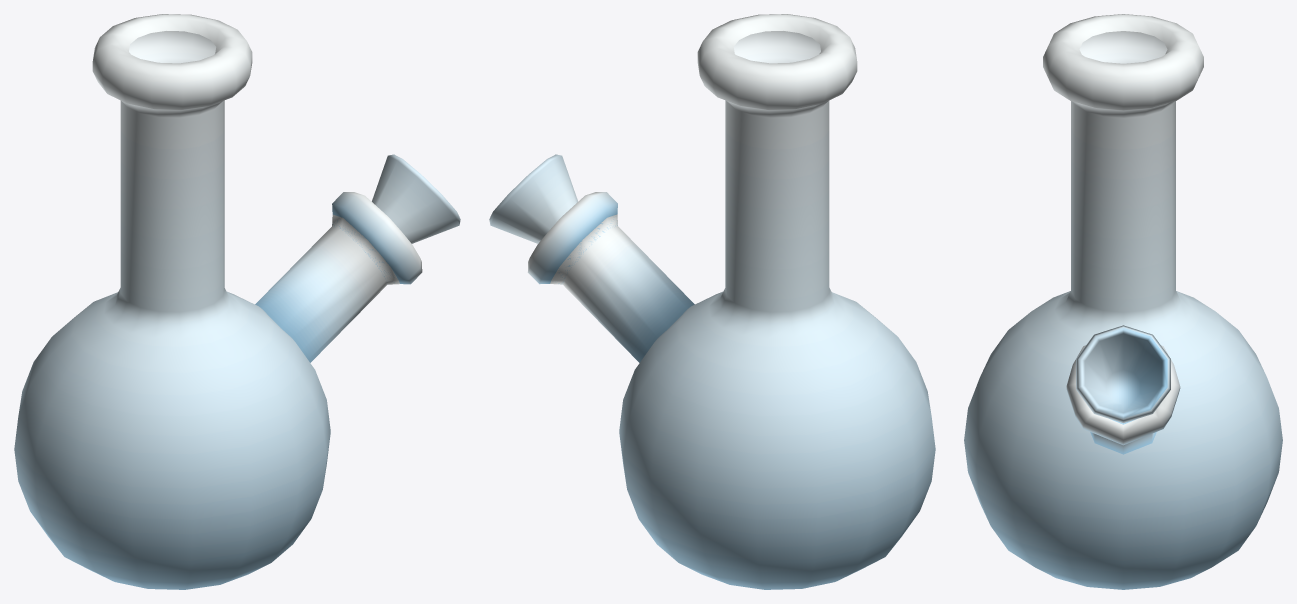
The model's file is goodPotion.fbx.
The picture shows the model from 3 angles, left to right: view 1: azimuth 30°, elevation 25°; view 2: azimuth 150°, elevation 25°; view 3: azimuth 270°, elevation 25°; orthographic projection.
Visible parts, largest first — view 1: dankPotion; view 2: dankPotion; view 3: dankPotion.
Boxes of the visible parts, x1,y1,x2,y2 form: dankPotion: [14, 14, 460, 589]; dankPotion: [489, 14, 935, 589]; dankPotion: [964, 14, 1282, 589].
Bounding box in the file's own units: 0.4068 × 0.4794 × 0.2696.
